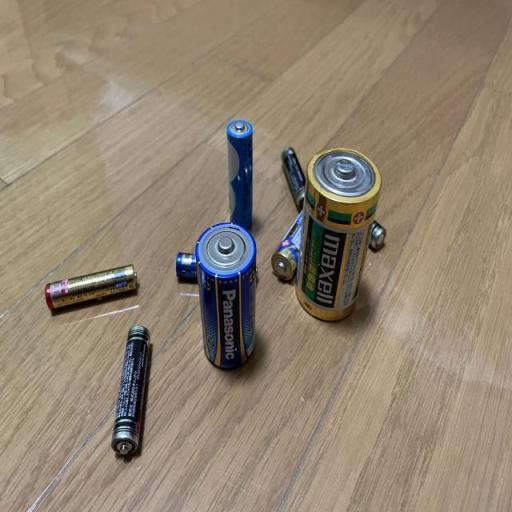battery: (295, 142, 384, 324), (194, 222, 259, 367), (112, 325, 154, 462), (44, 261, 141, 314), (270, 200, 323, 283), (225, 116, 256, 230), (278, 145, 318, 213), (174, 256, 264, 282), (362, 214, 389, 254)
